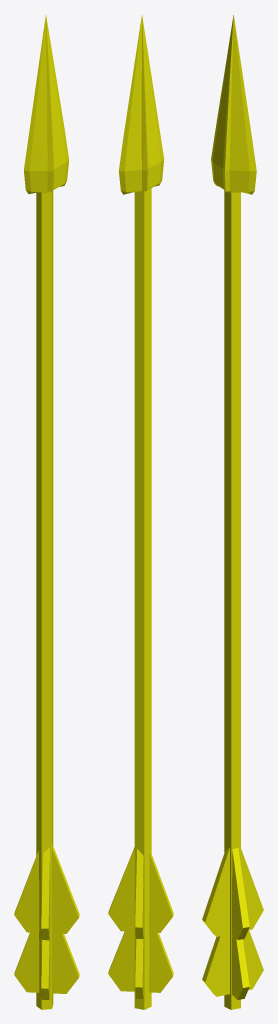
The model's file is _arrow_b_11.glb.
3 renders of one model, left to right at view 1: azimuth 30°, elevation 25°; view 2: azimuth 210°, elevation 25°; view 3: azimuth 330°, elevation 25°, orthographic.
Visible parts, largest first — view 1: arrow_b_11; view 2: arrow_b_11; view 3: arrow_b_11.
Boxes of the visible parts, <box> form: arrow_b_11: <box>14,15,79,1009</box>; arrow_b_11: <box>108,15,173,1009</box>; arrow_b_11: <box>202,15,263,1009</box>.
Size of the model in its own units: 0.034 by 0.6487 by 0.0347.
1 material, 1 textured.
